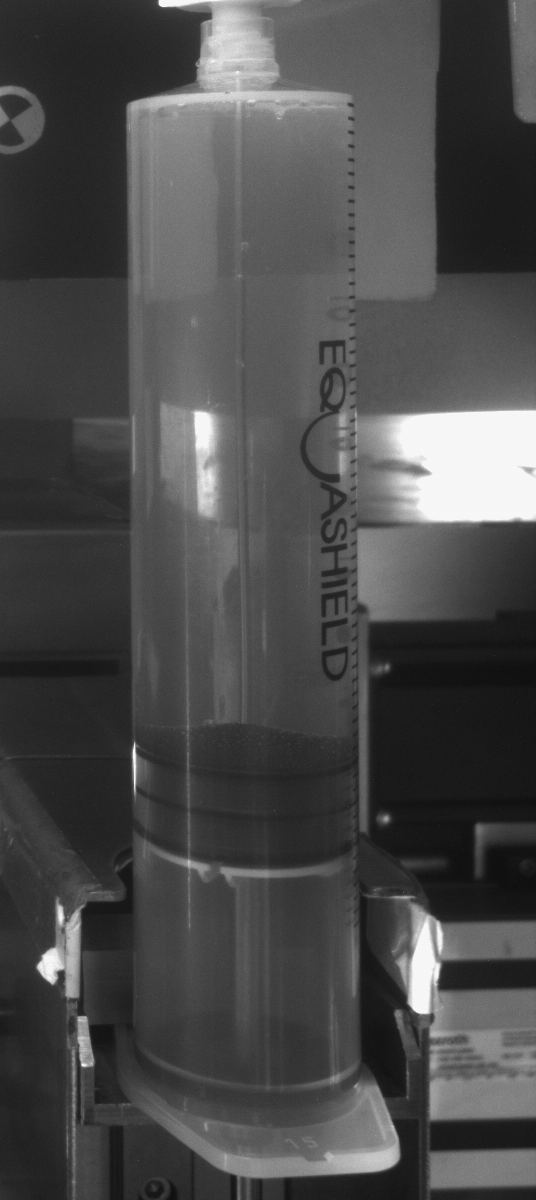piston: (132, 748, 360, 890)
